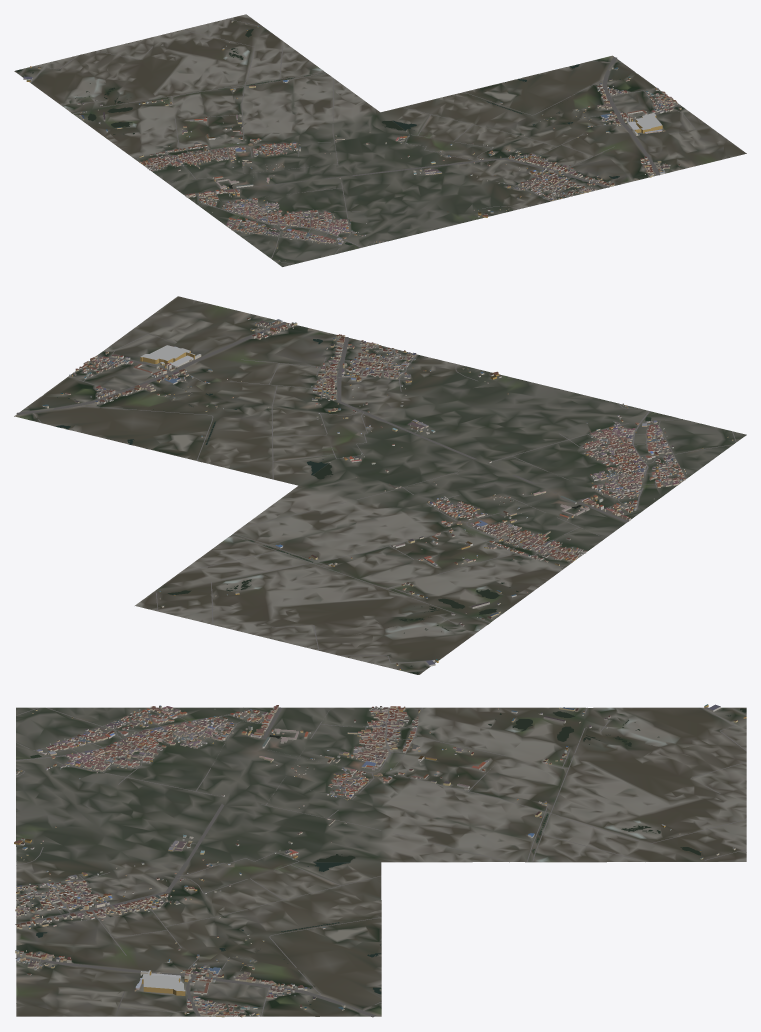
3 views of the same model, one above another, from view 1: azimuth 30°, elevation 25°; view 2: azimuth 150°, elevation 25°; view 3: azimuth 270°, elevation 25° (orthographic). The views are drawn at different scales.
Parts seen in each view (by area): view 1: ground, buildings, roads, water; view 2: ground, buildings, roads, water; view 3: ground, buildings, roads, water.
Boxes of the visible parts, <box> form: ground: <box>14,14,746,266</box>; buildings: <box>23,20,681,260</box>; roads: <box>30,17,724,264</box>; water: <box>16,29,627,245</box>; ground: <box>14,296,746,674</box>; buildings: <box>42,317,733,669</box>; roads: <box>16,302,736,663</box>; water: <box>56,339,651,674</box>; ground: <box>16,707,746,1016</box>; buildings: <box>14,704,746,1017</box>; roads: <box>15,707,746,1017</box>; water: <box>30,708,746,1009</box>.
Bounding box in the file's own units: 2827 × 27.95 × 2813.
